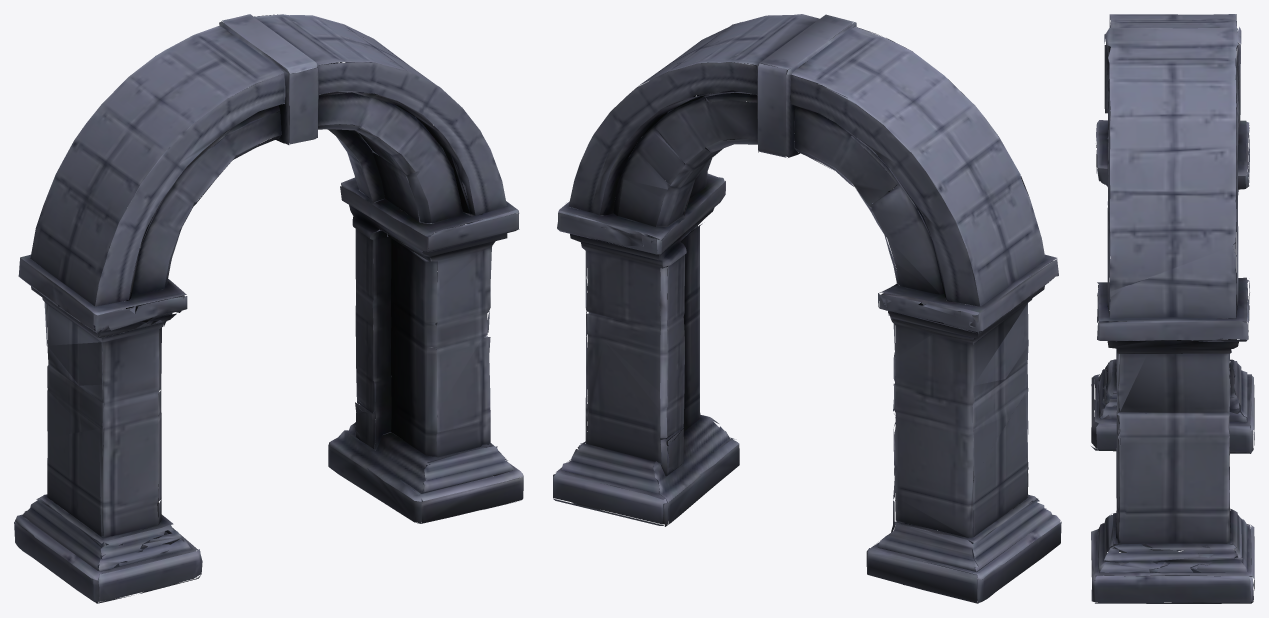
The model's file is arc_arch_3m.glb.
The picture shows the model from 3 angles, left to right: view 1: azimuth 30°, elevation 25°; view 2: azimuth 150°, elevation 25°; view 3: azimuth 270°, elevation 25°; orthographic projection. The views are drawn at different scales.
Parts seen in each view (by area): view 1: MetricPlacement; view 2: MetricPlacement; view 3: MetricPlacement.
Boxes of the visible parts, box(x1,y1,x2,y2) form: MetricPlacement: box(14, 14, 523, 603); MetricPlacement: box(553, 14, 1061, 603); MetricPlacement: box(1091, 14, 1254, 603).
Size of the model in its own units: 4 by 4.29 by 1.36.
1 material, 1 textured.
